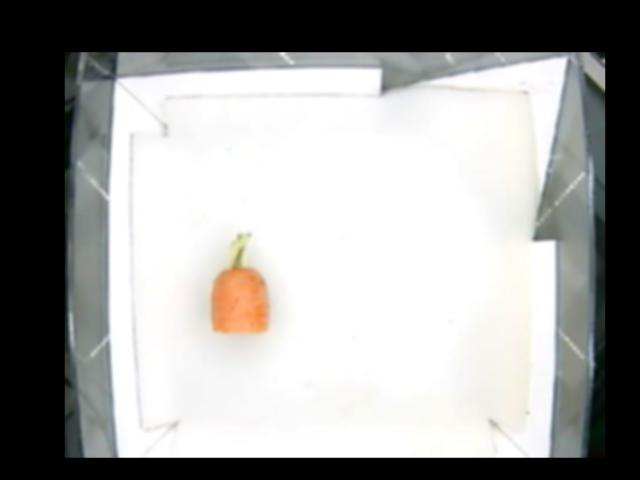Carrot: (209, 231, 269, 333)
